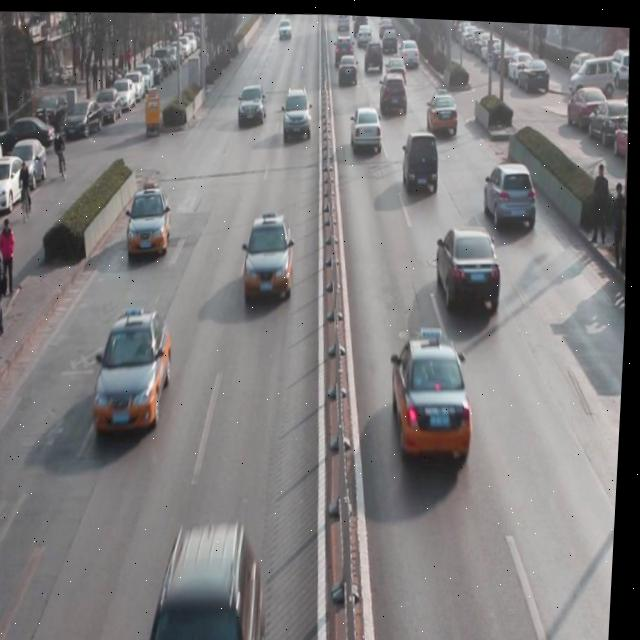car: (144, 513, 278, 640), (390, 324, 481, 476), (94, 308, 181, 440), (435, 219, 509, 312), (242, 209, 300, 300), (483, 156, 542, 233), (127, 184, 176, 258), (280, 81, 317, 142), (426, 83, 462, 135), (351, 99, 387, 149), (235, 80, 270, 128), (379, 69, 411, 114), (362, 30, 386, 72), (397, 31, 421, 66), (383, 50, 409, 82), (338, 48, 360, 83)
truck: (403, 125, 443, 190)
